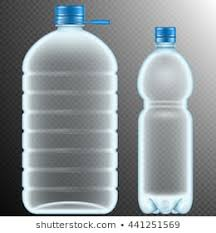available: (18, 2, 122, 217), (134, 22, 195, 217)
